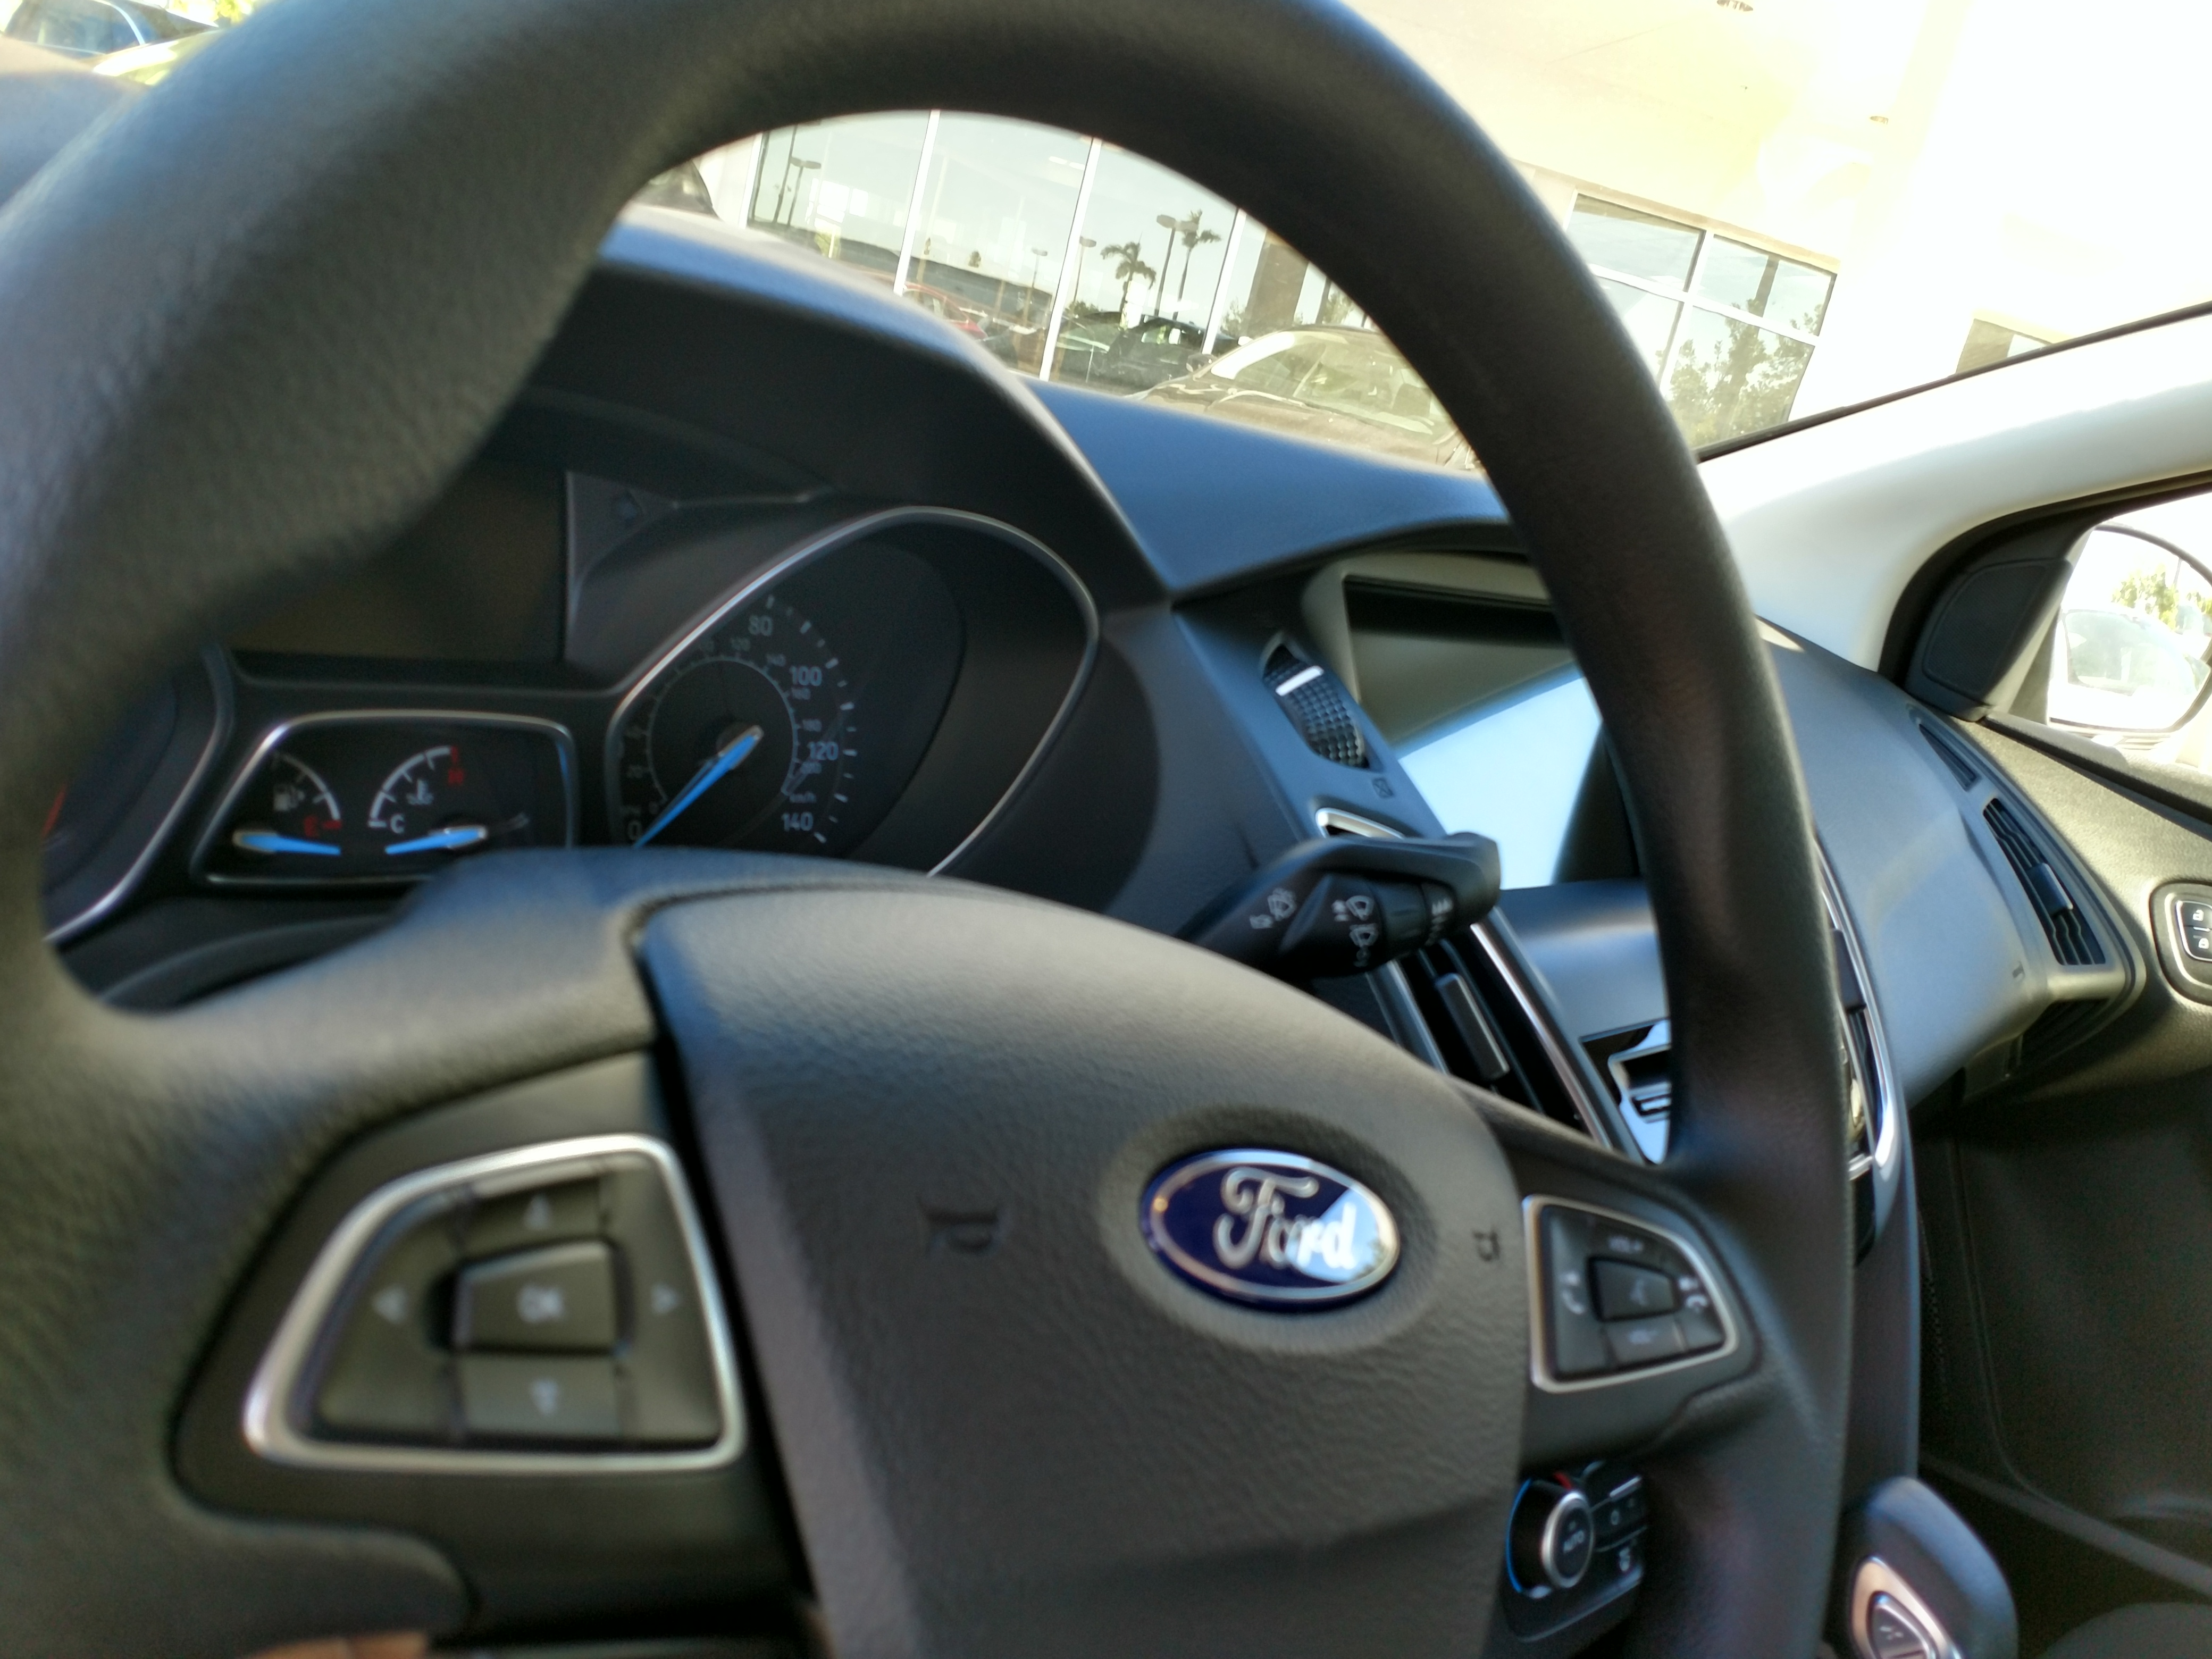Ford: (1120, 1124, 1454, 1330)
